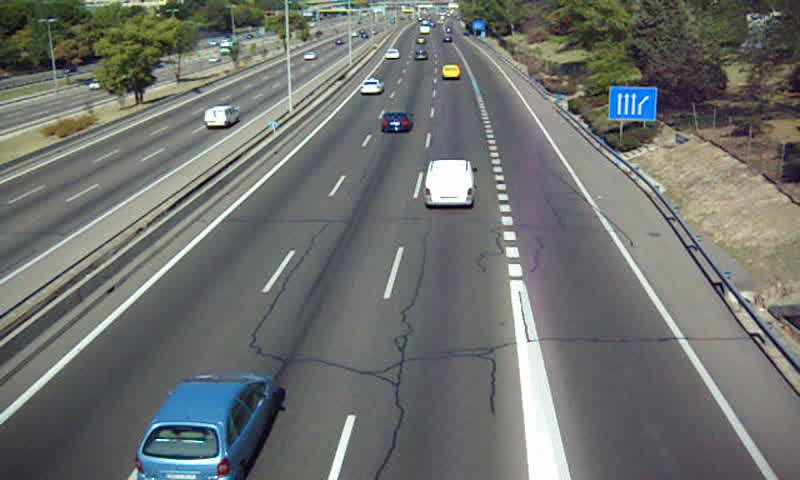car: (134, 374, 277, 480), (379, 111, 412, 133), (359, 79, 383, 95), (413, 47, 428, 62), (383, 48, 400, 61)
van: (424, 160, 474, 207), (441, 64, 460, 79)
